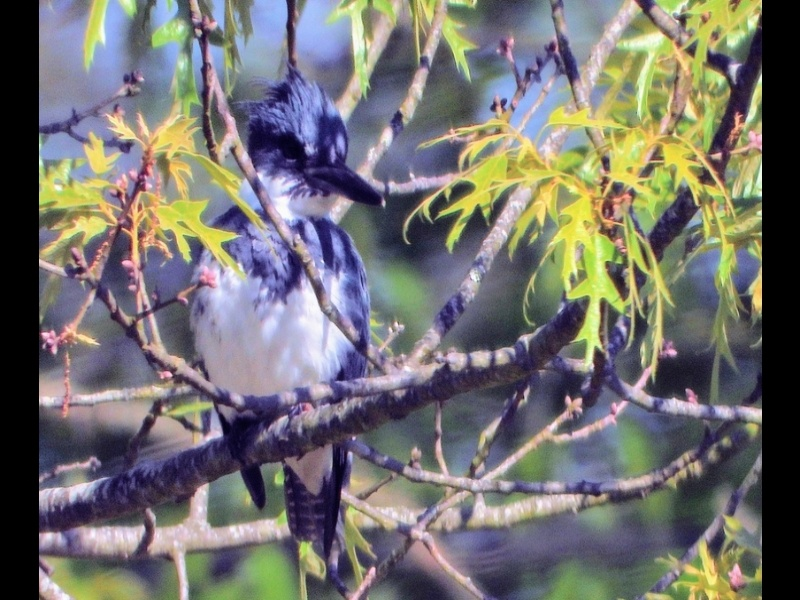kingfisher: (184, 68, 391, 570)
